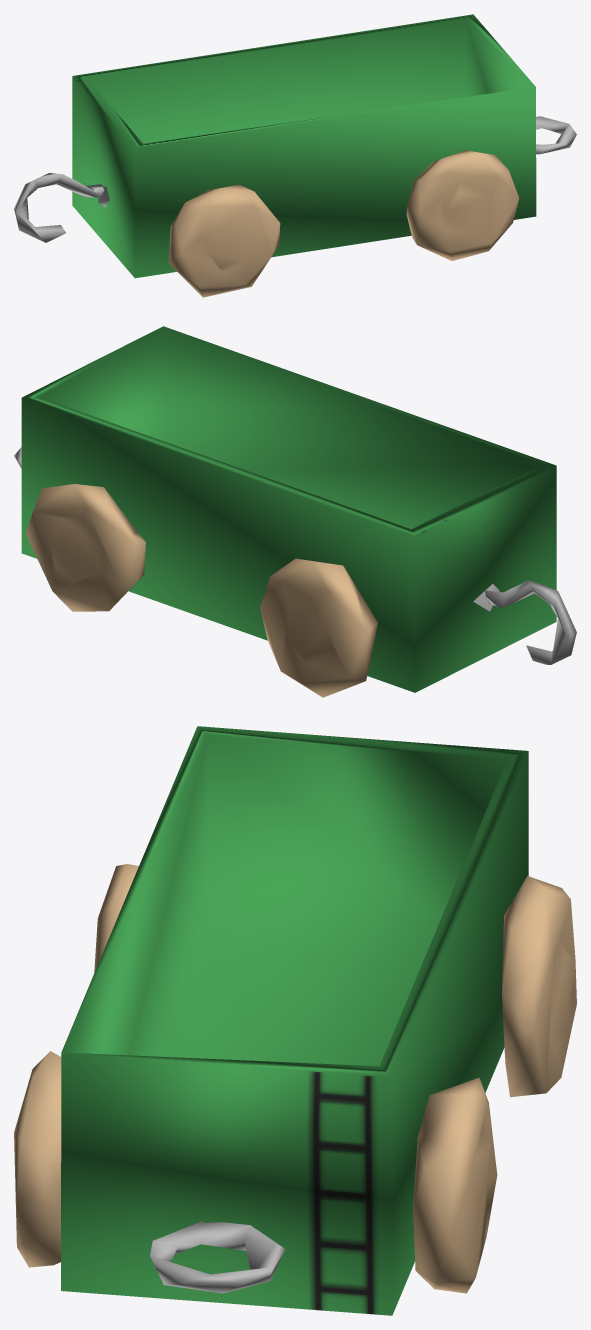
The model's file is verde_LOD1.fbx.
The picture shows the model from 3 angles, top to bottom: view 1: azimuth 30°, elevation 25°; view 2: azimuth 150°, elevation 25°; view 3: azimuth 270°, elevation 25°; orthographic projection. The views are drawn at different scales.
Visible parts, largest first — view 1: vagone2; view 2: vagone2; view 3: vagone2.
Part boxes in pixels (x1,y1,x2,y2): vagone2: (14,14,576,297); vagone2: (14,326,576,697); vagone2: (14,726,576,1315).
Bounding box in the file's own units: 634 × 180 × 332.
Materials: 3 (1 with a texture image).
